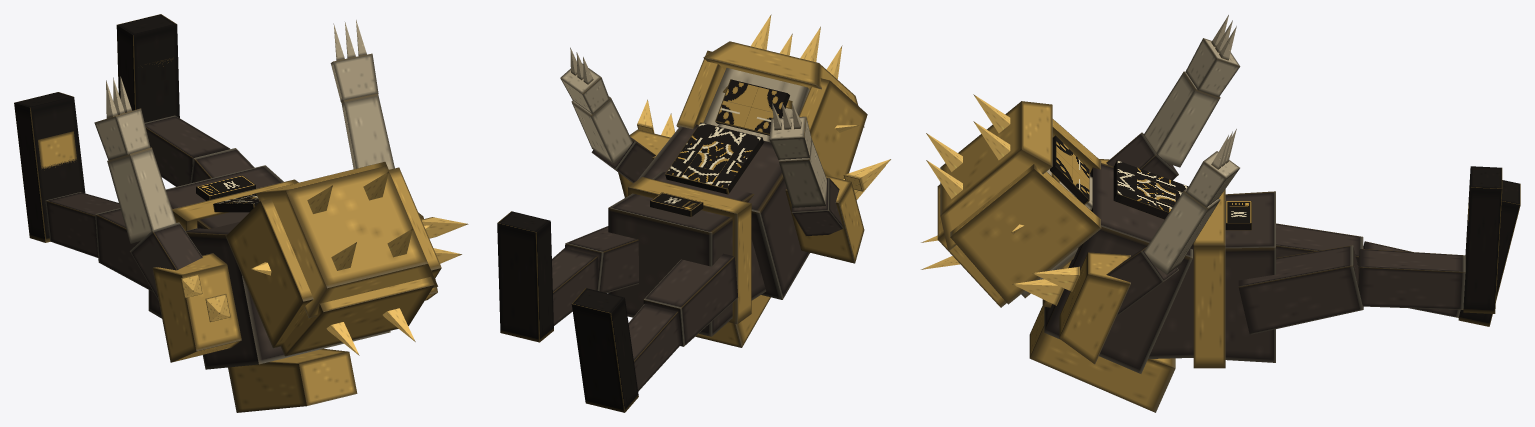
Rendered from choraz_attack.obj.
The picture shows the model from 3 angles, left to right: view 1: azimuth 30°, elevation 25°; view 2: azimuth 150°, elevation 25°; view 3: azimuth 270°, elevation 25°; orthographic projection. The views are drawn at different scales.
Parts seen in each view (by area): view 1: choraz_attack; view 2: choraz_attack; view 3: choraz_attack.
Part boxes in pixels (x1,y1,x2,y2): choraz_attack: (14,14,468,412); choraz_attack: (497,14,890,412); choraz_attack: (921,15,1520,412).
Size of the model in its own units: 0.5111 by 0.5821 by 0.978.
1 material, 1 textured.
